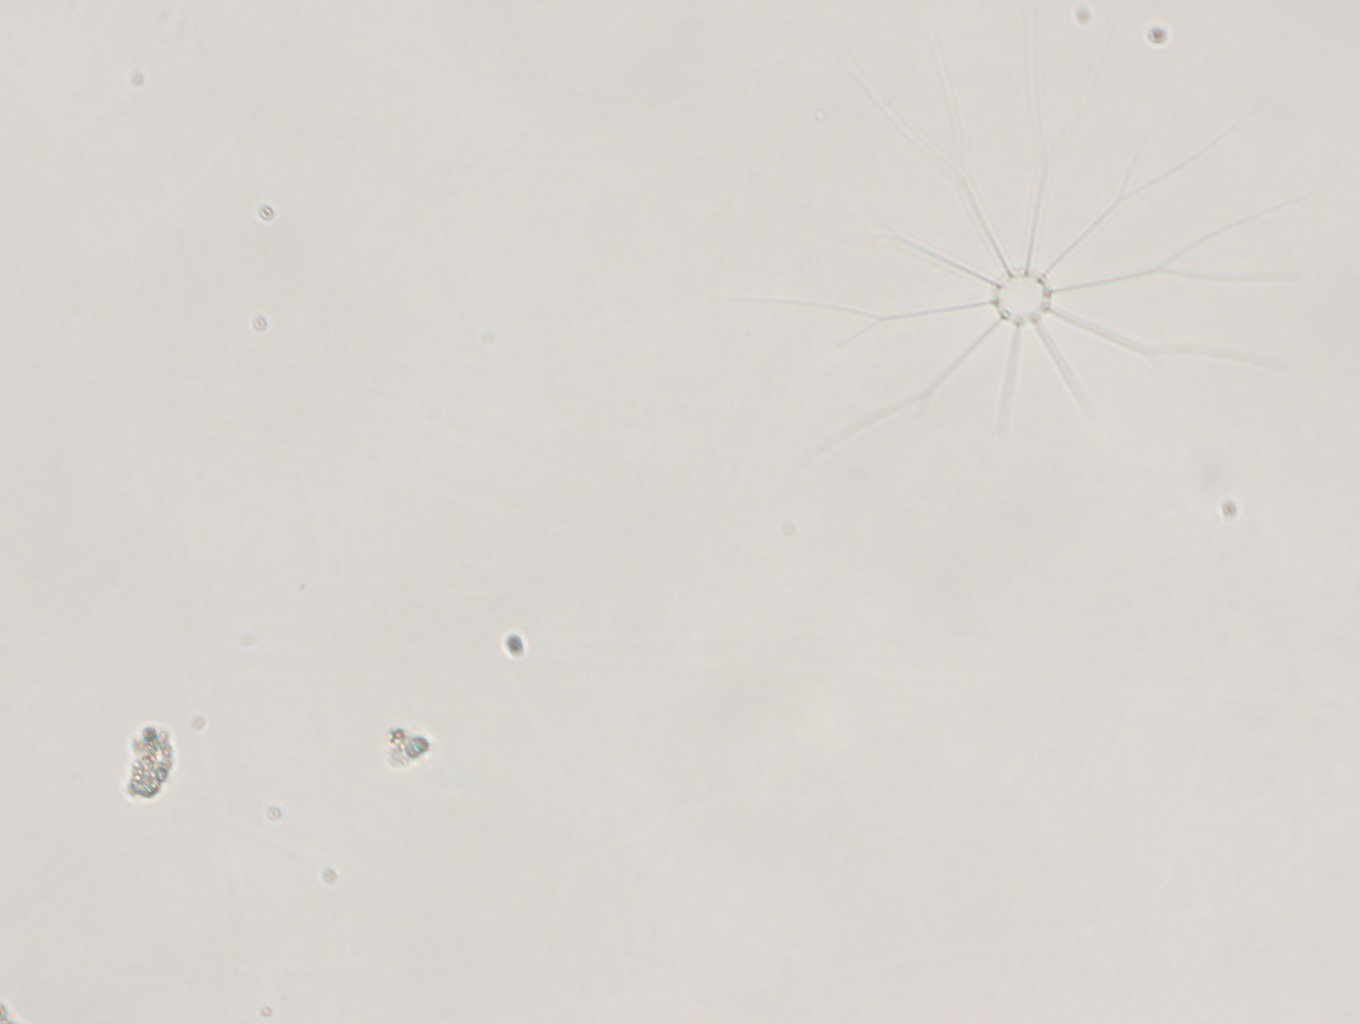bacteriastrum: (758, 65, 1320, 457)
